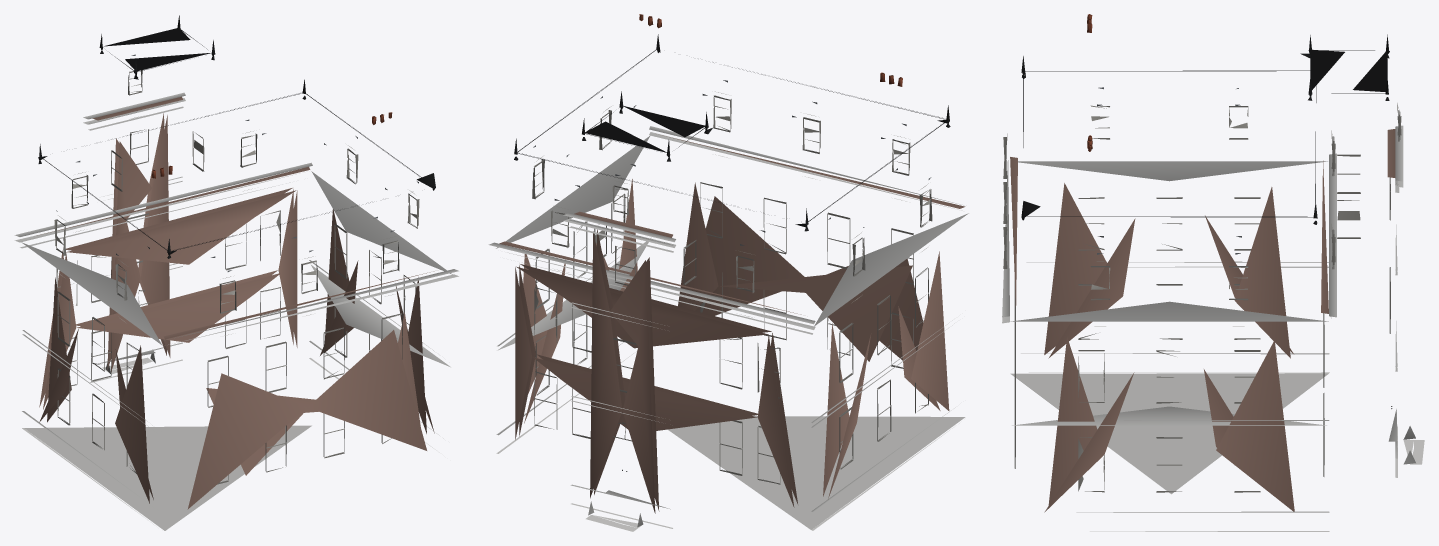
The model's file is second-empire-mansion_mirror.glb.
The picture shows the model from 3 angles, left to right: view 1: azimuth 30°, elevation 25°; view 2: azimuth 150°, elevation 25°; view 3: azimuth 270°, elevation 25°; orthographic projection. The views are drawn at different scales.
Parts seen in each view (by area): view 1: second-empire-mansion_mirror; view 2: second-empire-mansion_mirror; view 3: second-empire-mansion_mirror.
Part boxes in pixels (x1=…): second-empire-mansion_mirror: x1=14, y1=15, x2=458, y2=530; second-empire-mansion_mirror: x1=488, y1=14, x2=968, y2=531; second-empire-mansion_mirror: x1=1002, y1=14, x2=1424, y2=531.
Bounding box in the file's own units: 14.74 × 16.47 × 15.97.
